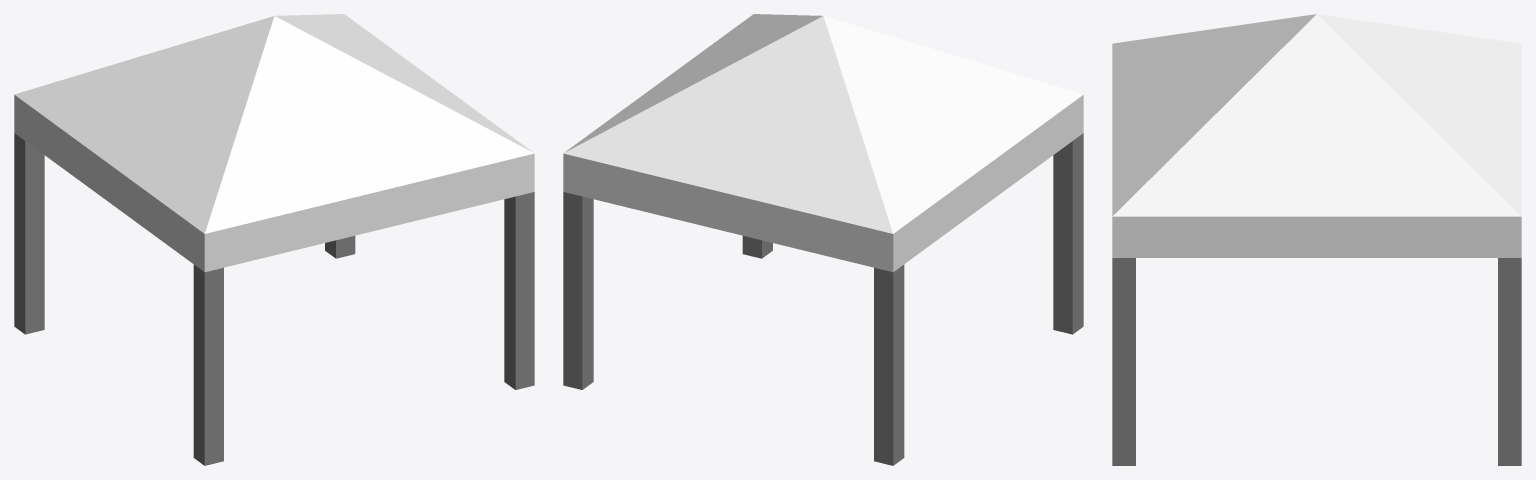
The model's file is Stall.fbx.
3 views of the same model, side by side, from view 1: azimuth 30°, elevation 25°; view 2: azimuth 150°, elevation 25°; view 3: azimuth 270°, elevation 25° (orthographic). The views are drawn at different scales.
Visible parts, largest first — view 1: Model; view 2: Model; view 3: Model.
Boxes of the visible parts, x1=… form: Model: x1=14, y1=14, x2=534, y2=465; Model: x1=563, y1=14, x2=1083, y2=465; Model: x1=1112, y1=14, x2=1521, y2=465.
Size of the model in its own units: 59.09 by 58.19 by 59.09.
